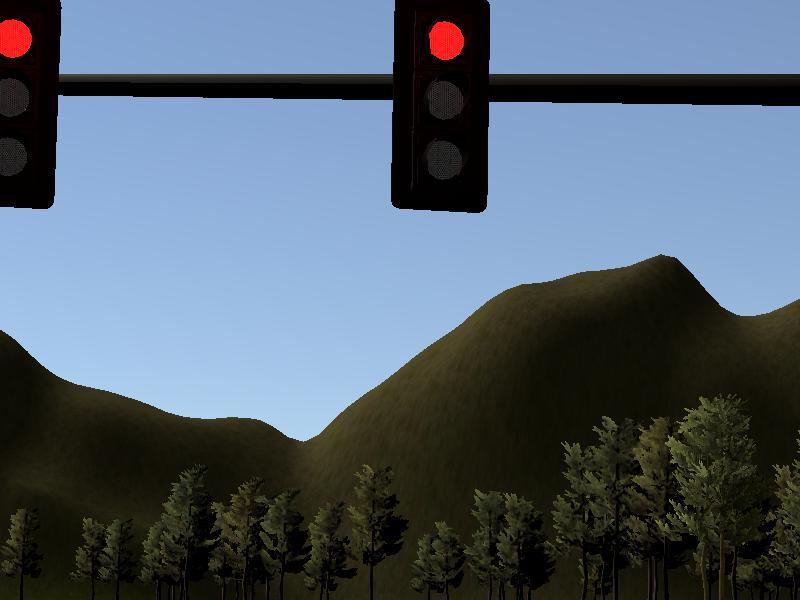Red: (395, 1, 487, 212), (2, 1, 55, 207)
